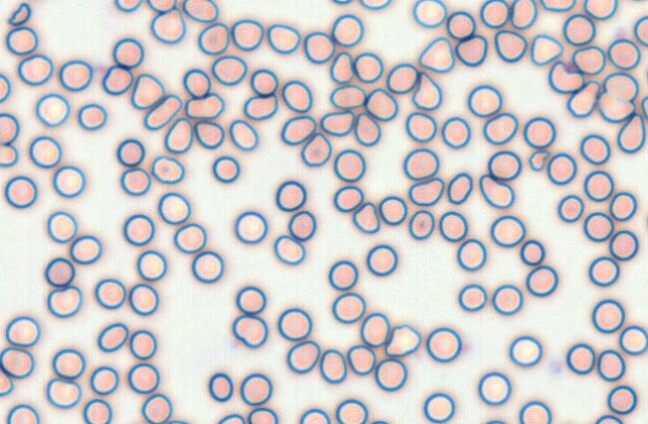PLT: (551, 360, 563, 373)
RBC: (143, 93, 182, 130), (417, 36, 455, 73), (150, 9, 186, 44), (566, 80, 600, 117), (426, 327, 461, 362), (479, 173, 514, 208), (35, 92, 70, 127), (232, 314, 268, 348), (130, 73, 164, 109), (402, 147, 439, 180), (591, 298, 625, 333), (277, 307, 312, 341), (46, 285, 82, 318), (597, 92, 635, 123), (616, 113, 645, 153), (477, 371, 511, 405), (364, 87, 398, 121), (467, 84, 502, 117), (17, 53, 53, 85), (482, 112, 518, 144), (286, 340, 320, 373), (234, 210, 267, 244), (333, 148, 366, 182), (331, 13, 364, 47), (493, 29, 527, 62), (230, 18, 264, 51), (331, 291, 366, 323), (184, 92, 224, 120), (490, 215, 525, 247), (58, 59, 93, 91), (211, 54, 247, 85), (602, 71, 639, 101), (374, 358, 407, 391), (4, 175, 37, 208), (239, 372, 272, 405), (28, 135, 61, 168), (157, 191, 190, 224), (562, 13, 595, 46), (0, 346, 34, 378), (508, 335, 542, 367), (300, 132, 332, 166), (359, 312, 390, 347), (5, 315, 40, 346), (46, 377, 81, 408), (280, 115, 316, 145), (407, 177, 444, 206), (52, 165, 85, 197), (525, 265, 558, 297), (366, 243, 398, 276), (530, 33, 563, 65), (191, 250, 223, 283), (607, 38, 640, 70), (197, 22, 229, 55), (523, 116, 556, 148), (571, 45, 606, 75), (164, 117, 193, 153), (127, 362, 159, 394), (455, 34, 487, 66), (386, 62, 418, 94), (303, 31, 335, 63), (52, 348, 85, 379), (546, 152, 577, 185), (123, 213, 154, 246), (281, 79, 312, 112), (267, 23, 300, 54), (487, 150, 521, 180), (329, 83, 366, 110), (423, 392, 455, 423), (273, 234, 305, 265), (101, 64, 133, 95), (136, 249, 167, 281), (94, 278, 126, 309), (579, 133, 610, 165), (112, 37, 144, 68), (128, 282, 158, 315), (47, 210, 77, 243), (173, 223, 206, 253), (319, 348, 347, 383), (412, 0, 447, 28), (588, 255, 619, 286), (492, 284, 523, 315), (583, 170, 614, 201), (583, 211, 614, 242), (275, 180, 306, 211), (405, 111, 436, 142), (456, 238, 486, 270), (438, 210, 468, 242), (69, 234, 101, 264), (353, 51, 383, 83), (5, 26, 38, 55), (229, 118, 258, 151), (151, 155, 184, 184), (353, 112, 381, 146), (141, 393, 172, 423), (44, 257, 75, 287), (97, 322, 128, 352), (328, 259, 358, 290), (566, 342, 595, 374), (609, 229, 638, 261), (441, 116, 470, 148), (243, 94, 278, 120), (319, 110, 354, 136), (607, 384, 637, 414), (347, 344, 376, 375), (235, 285, 266, 314), (287, 210, 316, 241), (597, 349, 625, 381), (89, 365, 118, 395), (378, 195, 407, 225), (182, 68, 211, 98), (194, 120, 224, 149), (446, 10, 476, 39), (120, 167, 151, 195), (446, 172, 473, 204), (116, 138, 145, 167), (619, 325, 647, 355), (609, 191, 637, 221), (129, 329, 157, 359), (77, 102, 107, 130), (479, 0, 509, 28), (335, 398, 368, 423), (329, 51, 354, 84), (458, 283, 487, 311), (249, 68, 278, 96), (333, 185, 363, 212), (408, 209, 434, 240), (182, 0, 218, 22), (212, 155, 240, 183), (510, 0, 537, 29), (518, 400, 551, 423), (557, 194, 584, 222), (208, 372, 233, 402), (83, 398, 112, 423), (583, 0, 618, 20), (6, 403, 39, 423), (519, 239, 544, 265), (0, 112, 19, 145), (247, 407, 278, 423), (299, 408, 330, 423), (633, 15, 647, 46), (540, 0, 576, 12), (0, 144, 18, 167), (146, 0, 176, 13), (0, 368, 13, 396), (114, 0, 142, 12), (359, 0, 391, 10), (0, 73, 11, 102), (217, 413, 246, 423), (594, 414, 623, 423), (640, 94, 647, 119), (165, 419, 190, 424), (368, 419, 391, 424), (331, 0, 353, 5), (482, 419, 508, 423), (629, 0, 647, 2)
Schistocyte: (550, 61, 585, 93), (386, 324, 421, 356), (414, 71, 442, 109), (353, 203, 381, 233), (528, 149, 552, 172), (8, 2, 32, 24)
